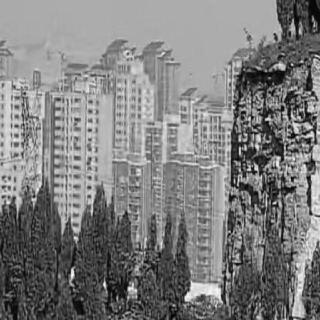other: (198, 78, 308, 275)
